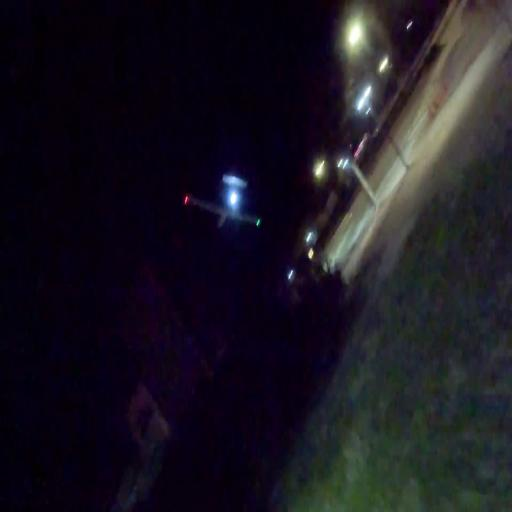uav: (177, 167, 263, 242)
